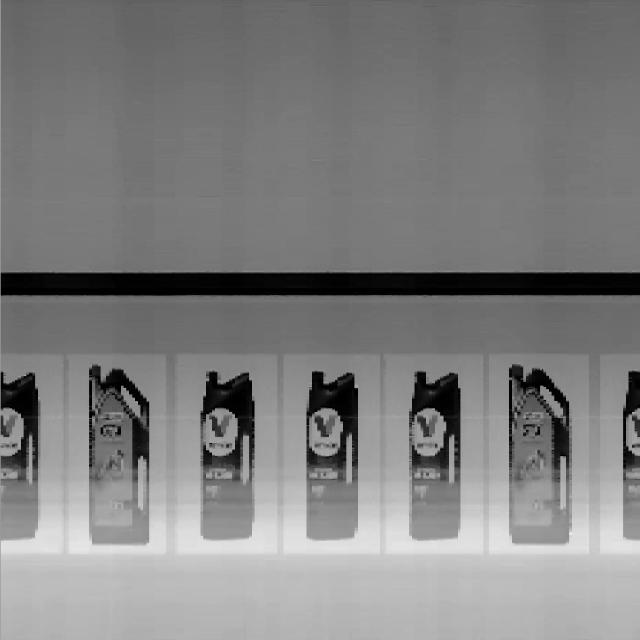motor_oil: (504, 356, 575, 546), (90, 359, 154, 554), (195, 360, 259, 546), (404, 364, 464, 543), (304, 366, 362, 546)
